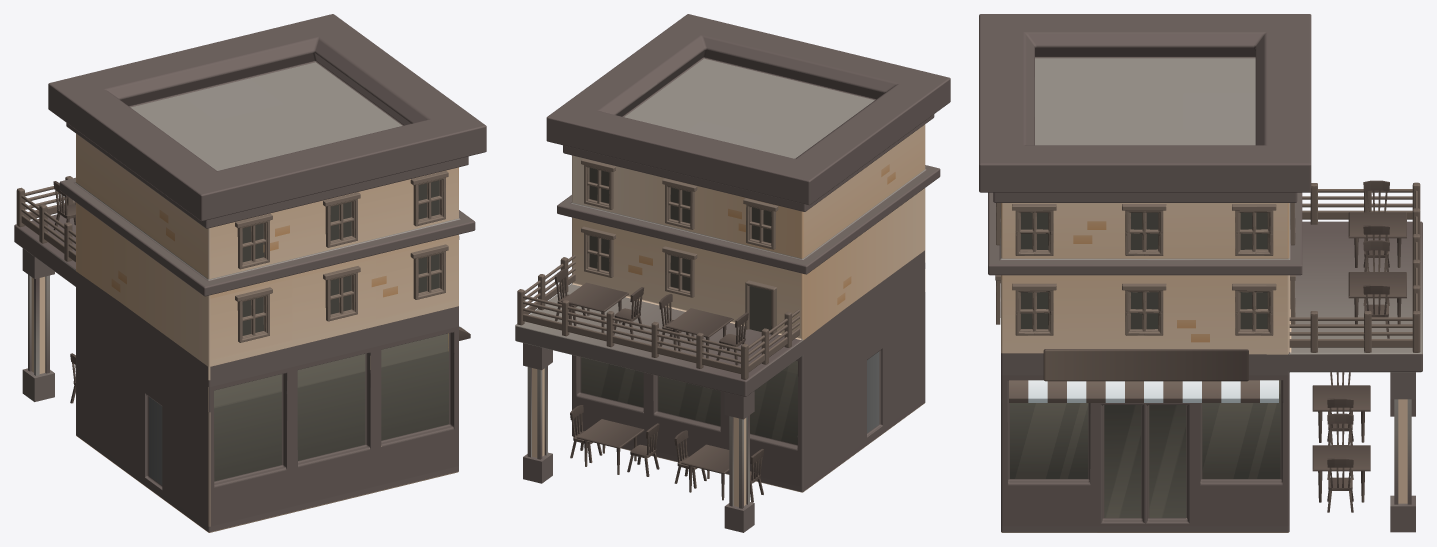
Rendered from CAFETERIA.fbx.
The picture shows the model from 3 angles, left to right: view 1: azimuth 30°, elevation 25°; view 2: azimuth 150°, elevation 25°; view 3: azimuth 270°, elevation 25°; orthographic projection. The views are drawn at different scales.
Parts seen in each view (by area): view 1: cafeteria.005; view 2: cafeteria.005; view 3: cafeteria.005.
Boxes of the visible parts, x1=… form: cafeteria.005: x1=14, y1=14, x2=486, y2=532; cafeteria.005: x1=515, y1=14, x2=950, y2=532; cafeteria.005: x1=979, y1=14, x2=1422, y2=532.
Size of the model in its own units: 1626 by 2021 by 1911.
Materials: 8 (8 with a texture image).
